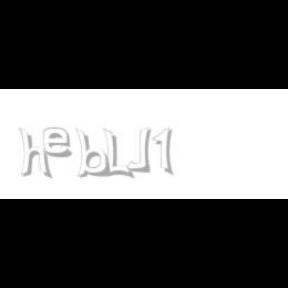1: (152, 128, 174, 176)
J: (126, 128, 150, 172)
L: (103, 128, 131, 180)
b: (75, 128, 113, 178)
e: (44, 128, 76, 158)
h: (19, 128, 54, 180)
